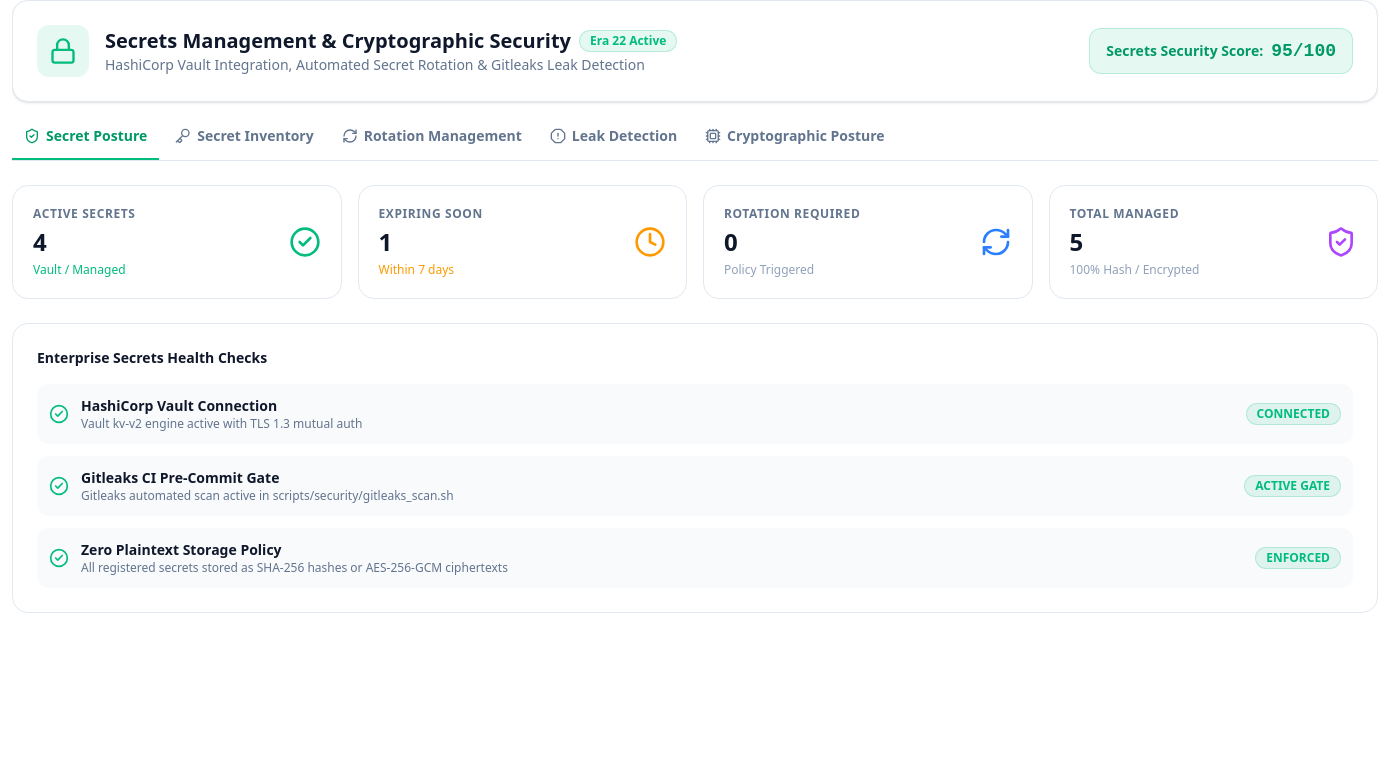
SecretsSecurityDashboard › clicking Cryptographic Posture tab shows approved and prohibited algorithms
The image size is (1378, 768).
What coordinates should you click on to do the following:
click the button "Cryptographic Posture"
I would click on:
 (795, 143)
Its box is [693,126,897,160].
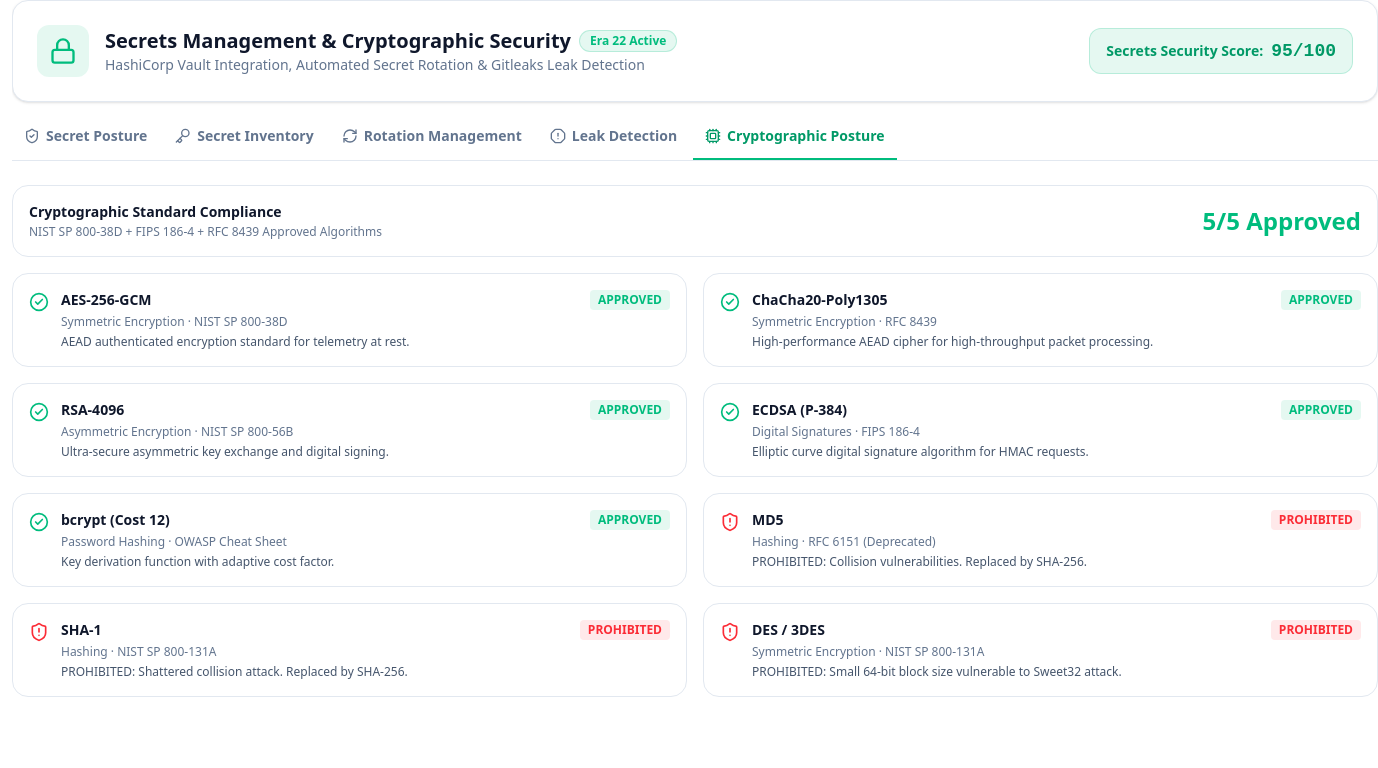
Expected: the text "ChaCha20-Poly1305" is shown, [752,290,887,310]
Expected: the text "MD5" is shown, [752,510,784,530]
Expected: the text "PROHIBITED" in the row of "MD5" is shown, [1279,511,1353,528]
